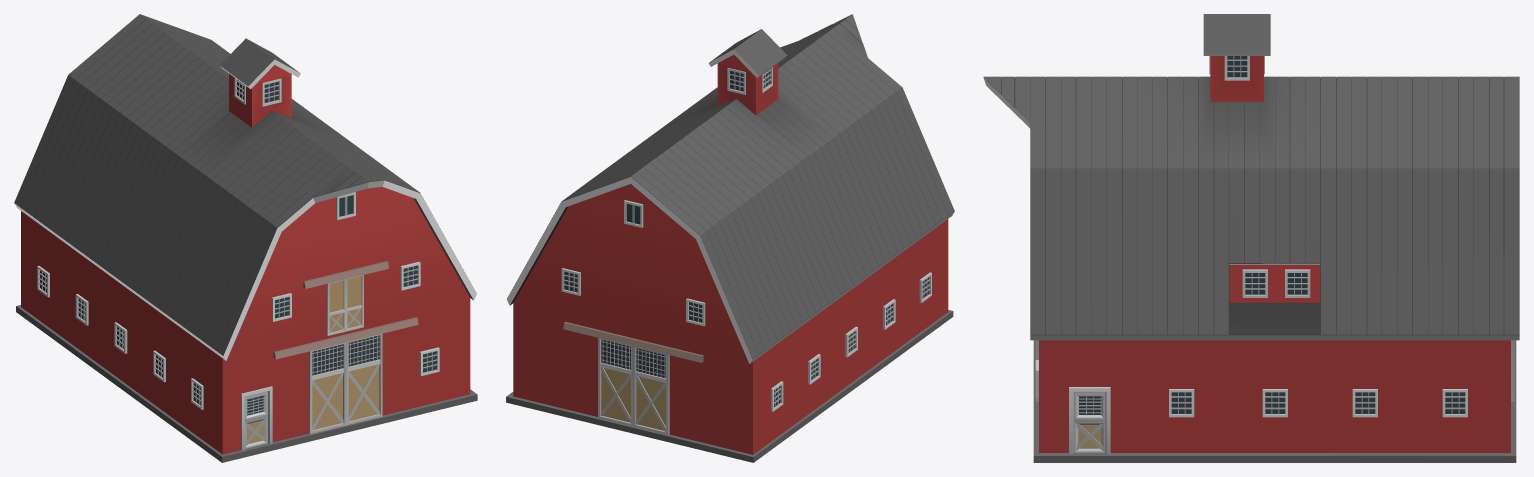
File: hangar_002.glb
The picture shows the model from 3 angles, left to right: view 1: azimuth 30°, elevation 25°; view 2: azimuth 150°, elevation 25°; view 3: azimuth 270°, elevation 25°; orthographic projection. The views are drawn at different scales.
Visible parts, largest first — view 1: hangar_002; view 2: hangar_002; view 3: hangar_002.
Boxes of the visible parts, x1,y1,x2,y2 form: hangar_002: (14, 14, 477, 462); hangar_002: (506, 14, 954, 462); hangar_002: (983, 14, 1519, 462).
Bounding box in the file's own units: 11.52 × 13.76 × 17.86.
1 material, 1 textured.
